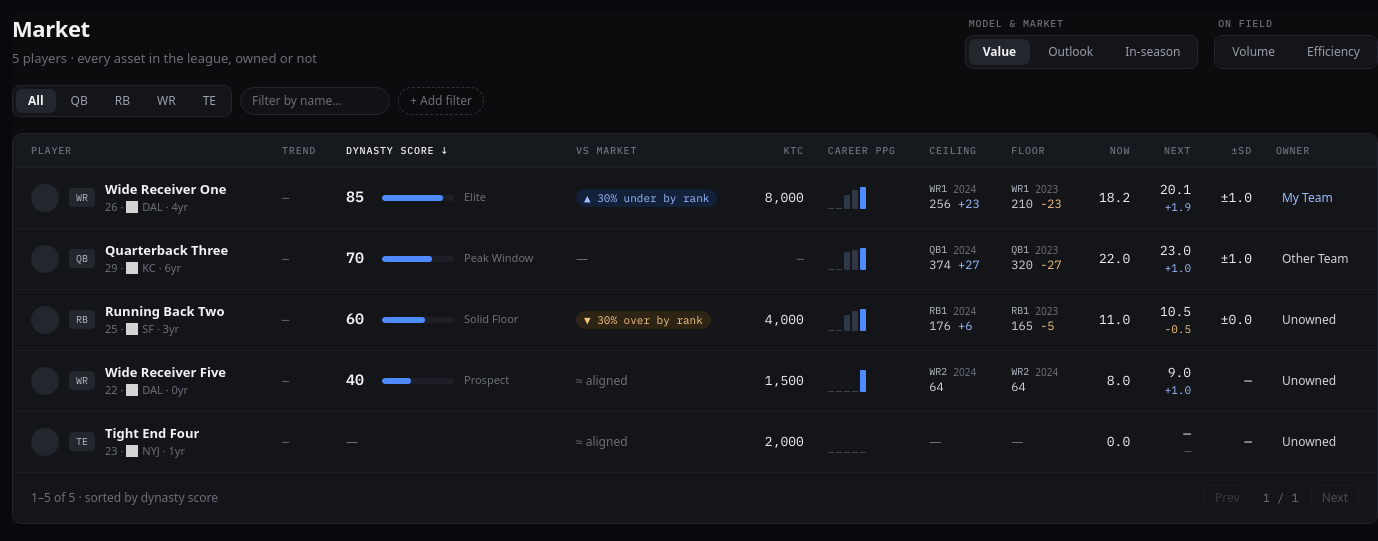
Test case: Market › position pills filter rows by position
The image size is (1378, 541).
Expected: the text "Wide Receiver One" is shown, [105, 180, 226, 199]
Expected: the text "Running Back Two" is shown, [105, 302, 224, 321]
Click the button "QB" at (79, 100), box [59, 88, 100, 112]
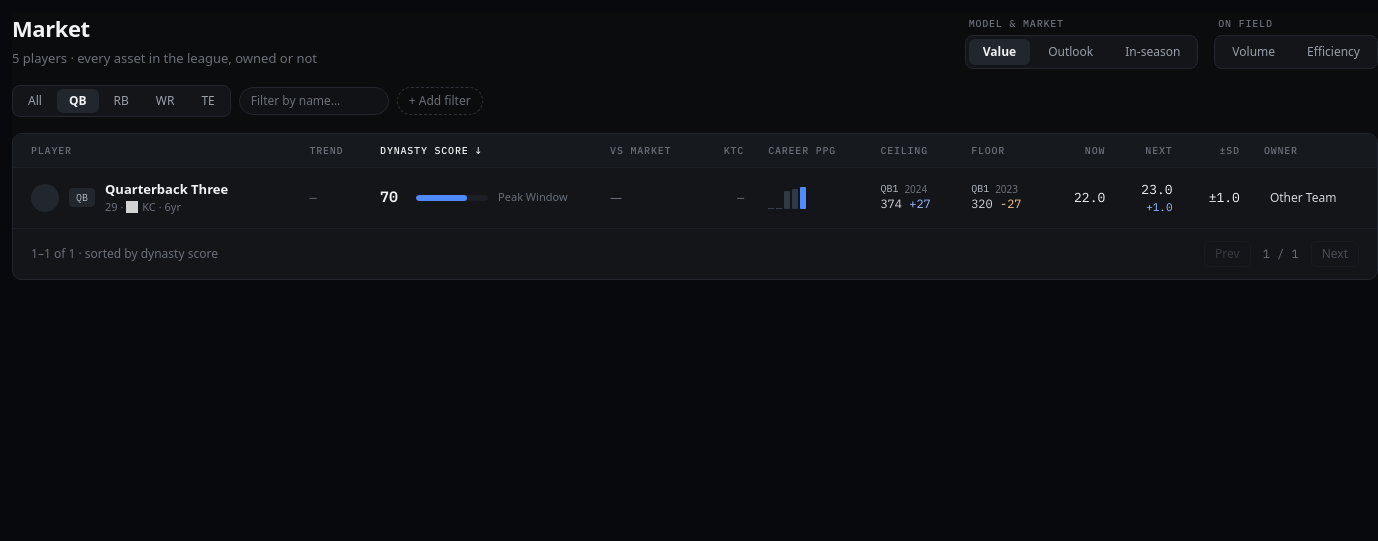
Expected: the text "Quarterback Three" is shown, [105, 180, 228, 199]
Now the button "Wide Receiver One" is gone
